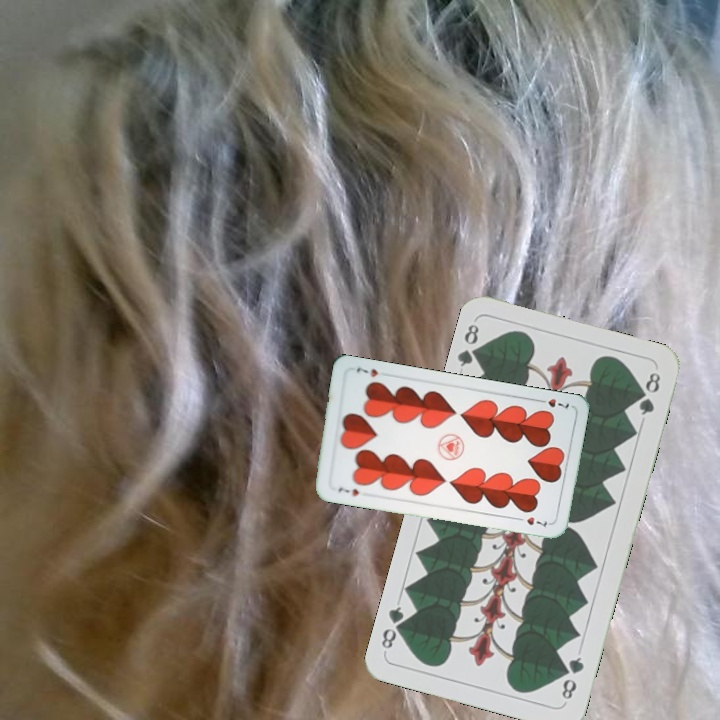G8: (454, 320, 486, 370), (557, 652, 587, 702)
H7: (533, 394, 572, 411), (334, 483, 361, 499)
